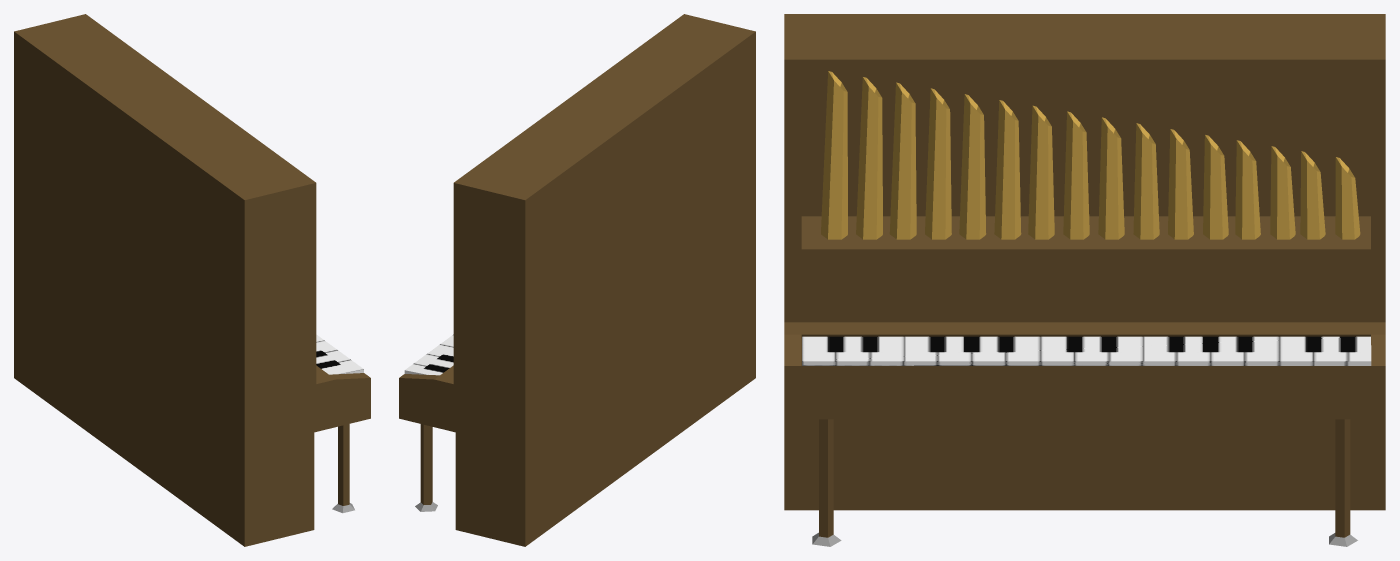
The model's file is PIANO_V1.fbx.
3 renders of one model, left to right at view 1: azimuth 30°, elevation 25°; view 2: azimuth 150°, elevation 25°; view 3: azimuth 270°, elevation 25°, orthographic. The views are drawn at different scales.
Parts seen in each view (by area): view 1: Cylinder.016; view 2: Cylinder.016; view 3: Cylinder.016.
Boxes of the visible parts, left/top/right/bottom form: Cylinder.016: left=14, top=14, right=370, bottom=546; Cylinder.016: left=399, top=14, right=755, bottom=546; Cylinder.016: left=784, top=14, right=1385, bottom=546.
Size of the model in its own units: 255 by 671 by 807.
